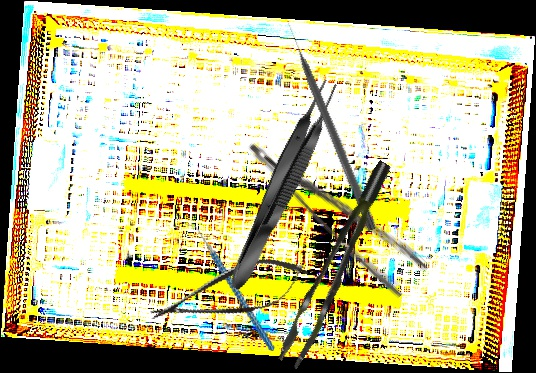Chopper: (182, 207, 276, 365)
Dressing Forceps: (244, 115, 431, 301)
Micro Scissor: (143, 247, 315, 340)
Pusher: (284, 20, 379, 232)
Tissue Forceps: (259, 159, 417, 371), (220, 75, 345, 295)
